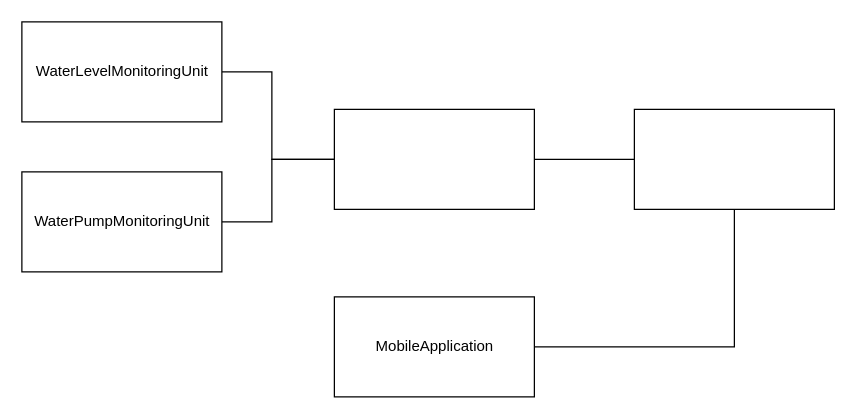
The diagram is 856 pixels wide and 419 high, and some of its shapes have lost their labels. Here are the shapes that lost their labels. From the top down, the centre of each, then its label:
the point at 433,158: MainControllerUnit
the point at 733,158: CloudServices
